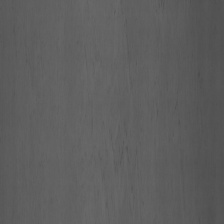silk_spot: (77, 49, 163, 212)
